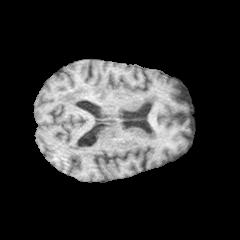glioma: (58, 67, 109, 104)
